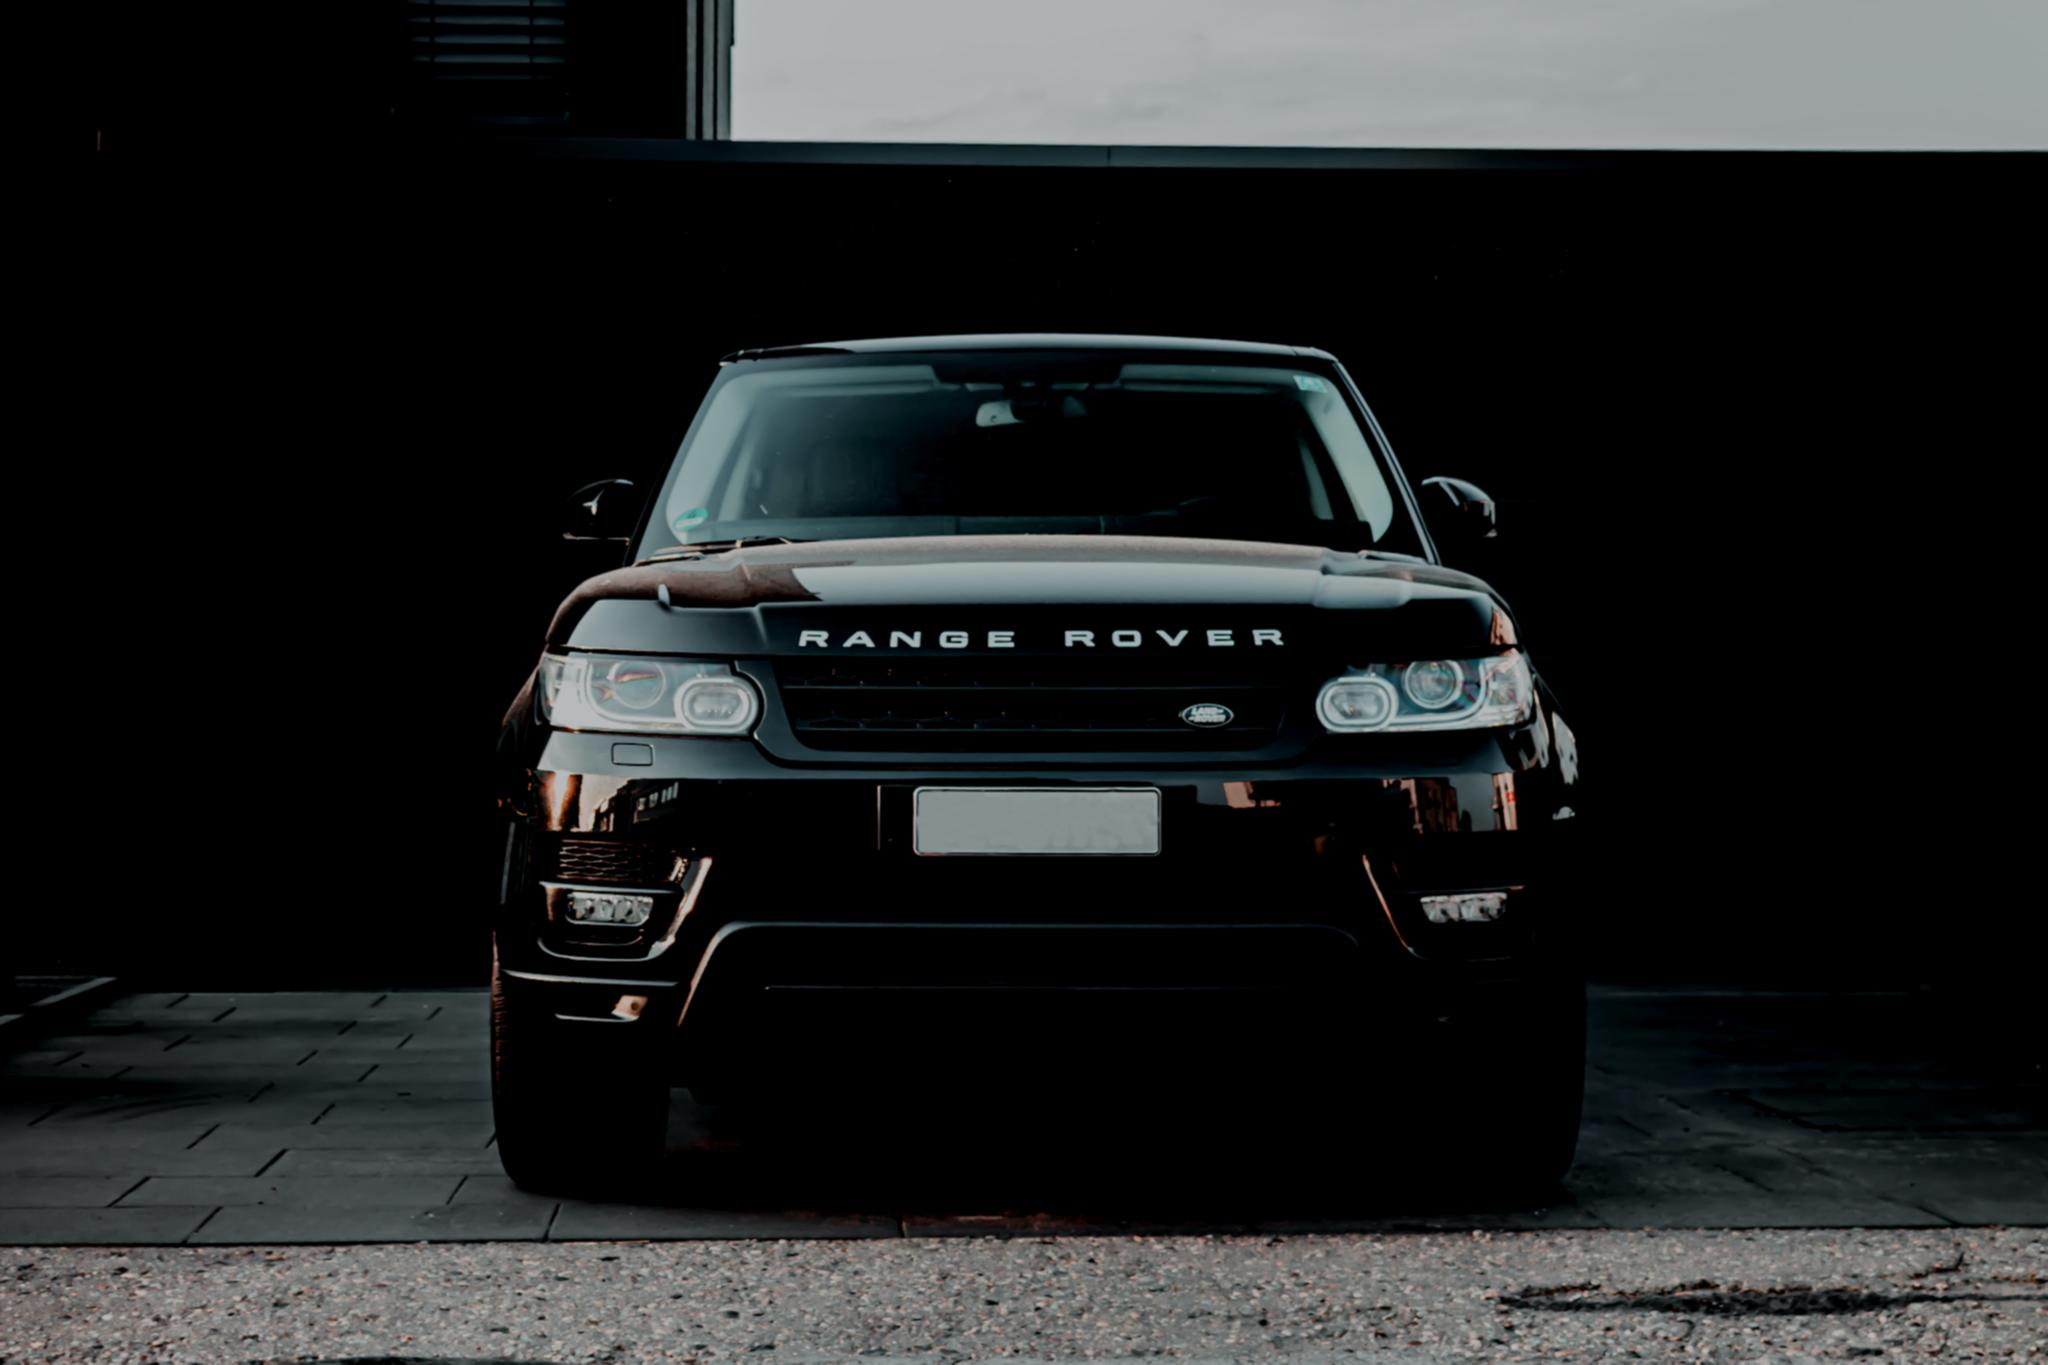range rover: (764, 590, 1320, 699)
